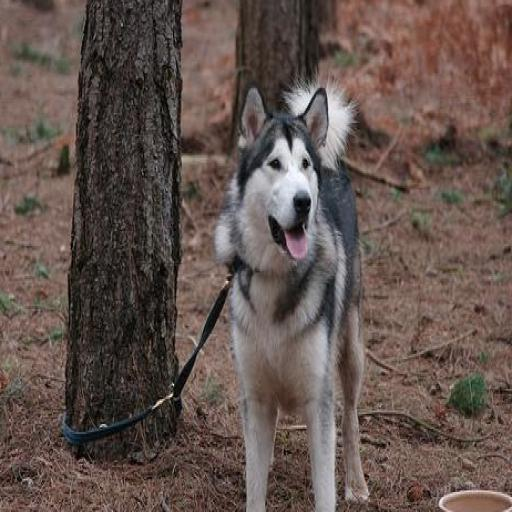dog_face: (239, 81, 336, 260)
